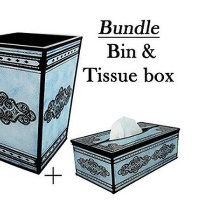tissue: (104, 111, 146, 144)
